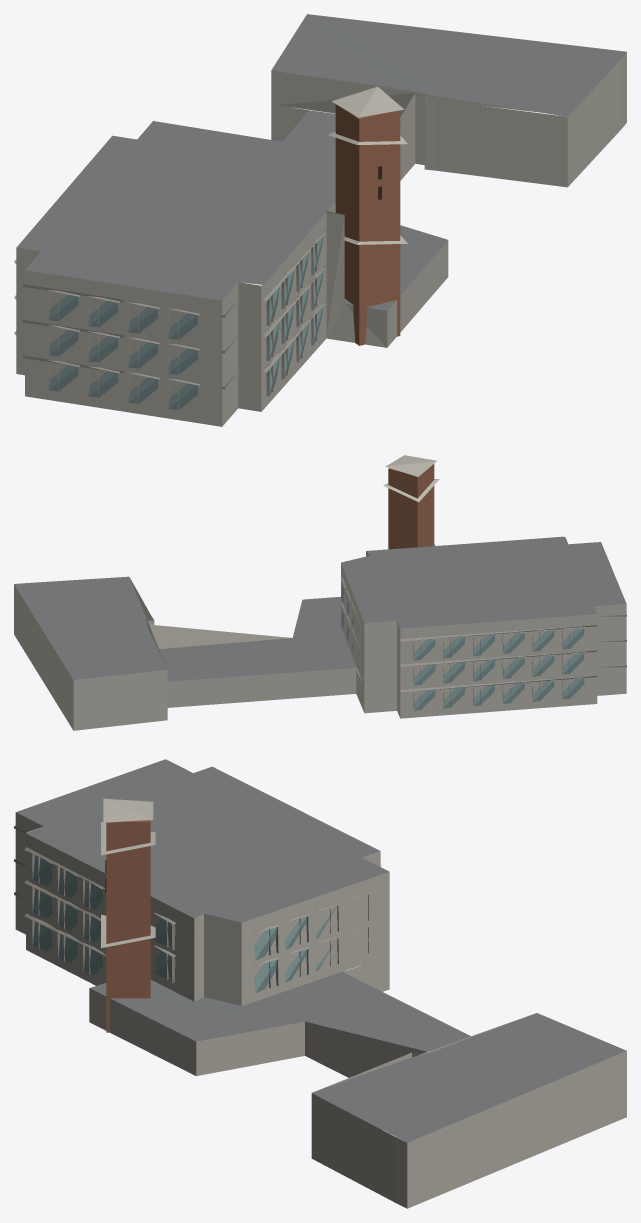
The model's file is koningskerk.lod1.glb.
The picture shows the model from 3 angles, top to bottom: view 1: azimuth 30°, elevation 25°; view 2: azimuth 150°, elevation 25°; view 3: azimuth 270°, elevation 25°; orthographic projection. The views are drawn at different scales.
Visible parts, largest first — view 1: koningskerk; view 2: koningskerk; view 3: koningskerk.
Boxes of the visible parts, x1,y1,x2,y2 form: koningskerk: (14, 14, 626, 426); koningskerk: (14, 455, 626, 730); koningskerk: (14, 759, 626, 1208).
Bounding box in the file's own units: 67.69 × 20.3 × 52.7.
